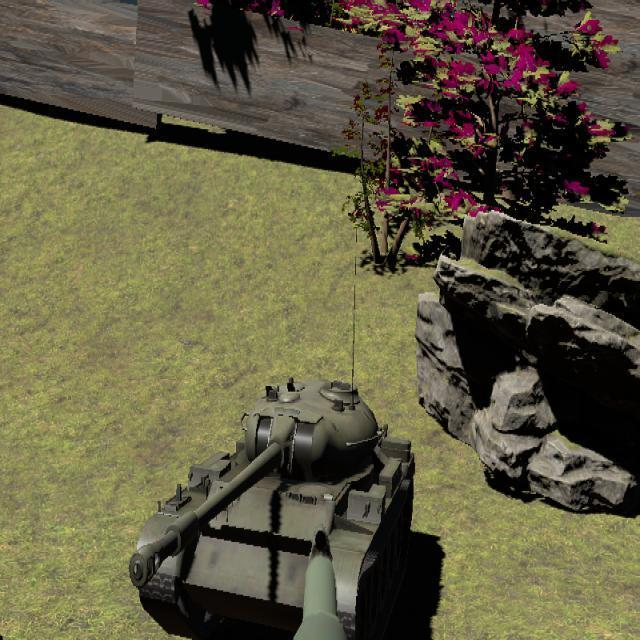Tank: (128, 375, 416, 639)
